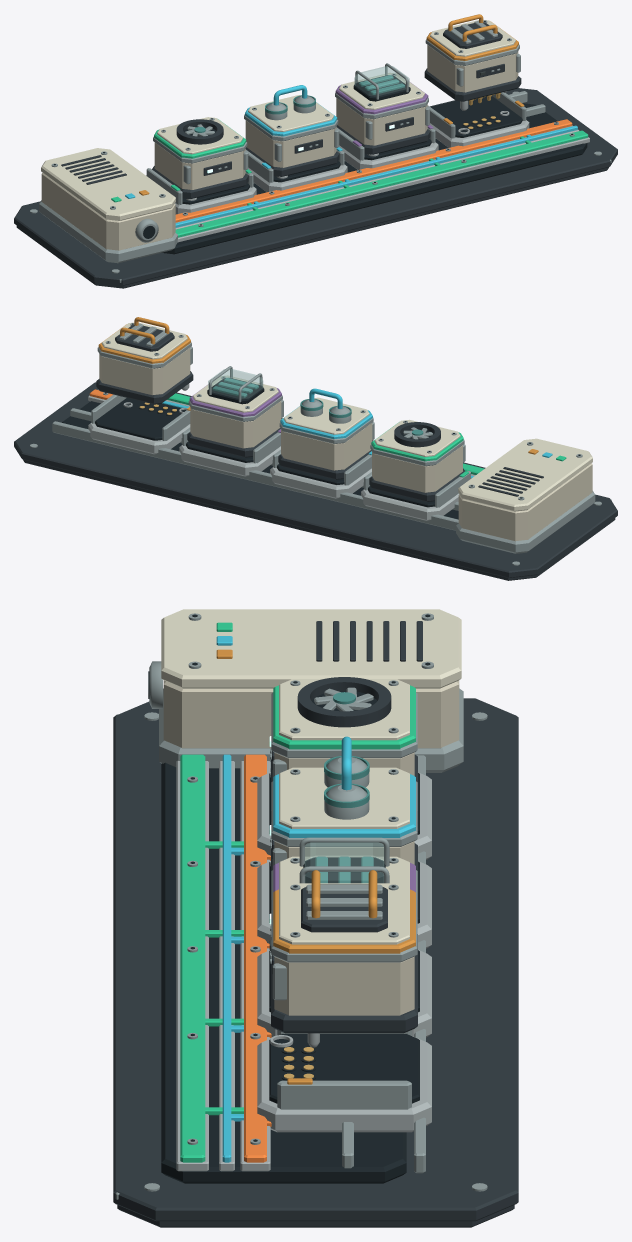
File: p0_microgrid_bus_interface.glb
The picture shows the model from 3 angles, top to bottom: view 1: azimuth 30°, elevation 25°; view 2: azimuth 150°, elevation 25°; view 3: azimuth 270°, elevation 25°; orthographic projection. The views are drawn at different scales.
Parts seen in each view (by area): view 1: Cassette housing (×4), Anodized training plate, Power combining terminal, Insulated busway, Functional head (×4), green bus, Slot 4, orange bus, cyan bus, Slot 2, Slot 3, Slot 1; view 2: Anodized training plate, Cassette housing (×4), Power combining terminal, Functional head (×4), Slot 4, Insulated busway, Slot 1, Slot 3, Slot 2; view 3: Anodized training plate, Cassette housing (×4), Power combining terminal, Insulated busway, Slot 4, Functional head (×4), green bus, orange bus, cyan bus, Slot 3, Slot 1, Slot 2.
Part boxes in pixels (box(x1,y1,x2,y2)): Cassette housing (×4): box(152, 19, 521, 198); Anodized training plate: box(14, 88, 617, 288); Power combining terminal: box(39, 148, 177, 263); Insulated busway: box(161, 91, 589, 254); Functional head (×4): box(176, 14, 502, 144); green bus: box(175, 130, 588, 237); Slot 4: box(427, 92, 531, 147); orange bus: box(175, 119, 572, 222); cyan bus: box(175, 125, 577, 227); Slot 2: box(245, 147, 349, 192); Slot 3: box(336, 125, 440, 169); Slot 1: box(146, 168, 258, 214); Anodized training plate: box(14, 382, 617, 580); Cassette housing (×4): box(96, 322, 465, 501); Power combining terminal: box(456, 438, 595, 553); Functional head (×4): box(115, 317, 440, 447); Slot 4: box(88, 394, 190, 454); Insulated busway: box(52, 389, 475, 530); Slot 1: box(361, 471, 470, 520); Slot 3: box(179, 427, 280, 476); Slot 2: box(270, 449, 371, 498); Anodized training plate: box(113, 698, 518, 1227); Cassette housing (×4): box(269, 679, 417, 1033); Power combining terminal: box(148, 609, 463, 772); Insulated busway: box(161, 755, 425, 1183); Slot 4: box(205, 1030, 431, 1132); Functional head (×4): box(297, 677, 391, 932); green bus: box(180, 754, 205, 1162); orange bus: box(244, 754, 266, 1162); cyan bus: box(222, 754, 231, 1162); Slot 3: box(205, 950, 431, 1037); Slot 1: box(205, 772, 431, 860); Slot 2: box(205, 861, 431, 948).
Bounding box in the file's own units: 0.265 × 0.0607 × 0.0887.
